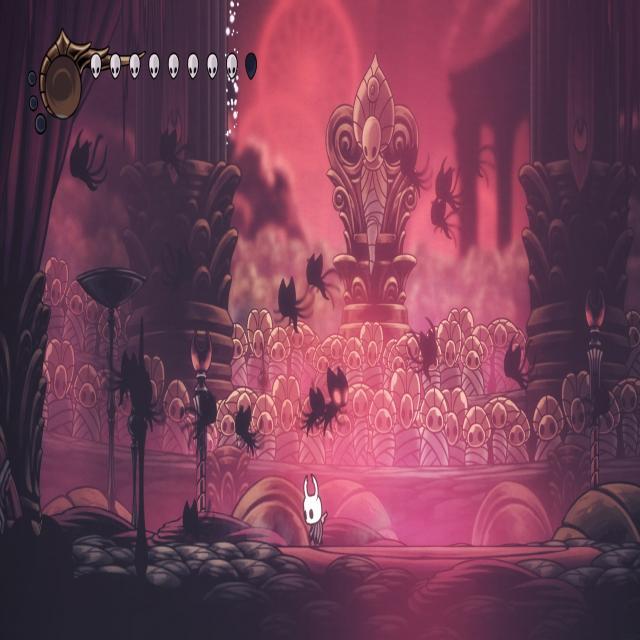Player: (301, 467, 329, 548)
Staggered_Grimm: (314, 365, 351, 440)
